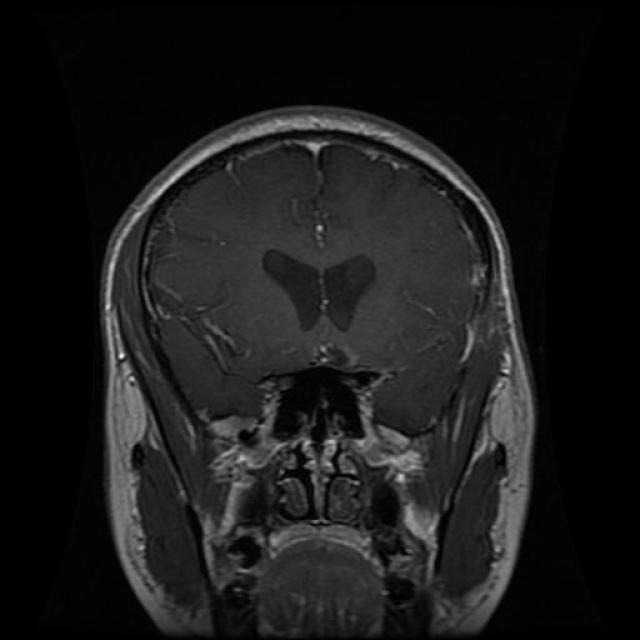glioma: (260, 248, 382, 336)
